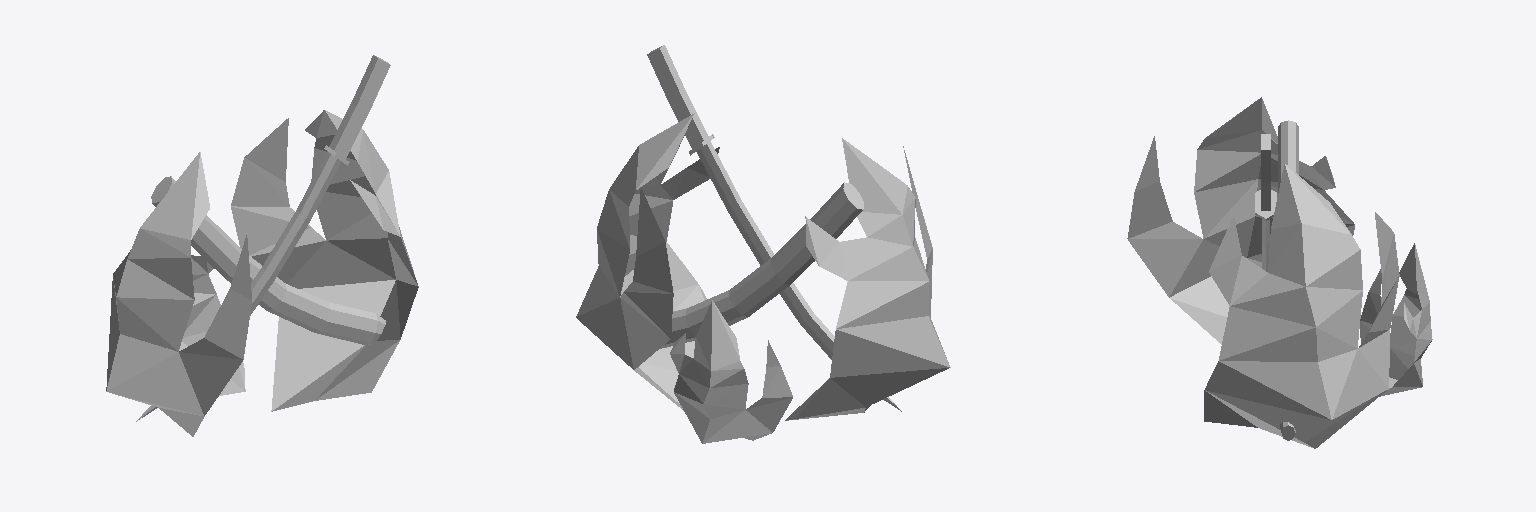
File: soul_3.obj
The picture shows the model from 3 angles: view 1: azimuth 30°, elevation 25°; view 2: azimuth 150°, elevation 25°; view 3: azimuth 270°, elevation 25°; orthographic projection.
Parts seen in each view (by area): view 1: soul3; view 2: soul3; view 3: soul3.
Part boxes in pixels (bbox=[...]): soul3: bbox=[106, 55, 418, 436]; soul3: bbox=[576, 45, 950, 443]; soul3: bbox=[1127, 97, 1432, 448].
Bounding box in the file's own units: 1.05 × 1.06 × 0.832.